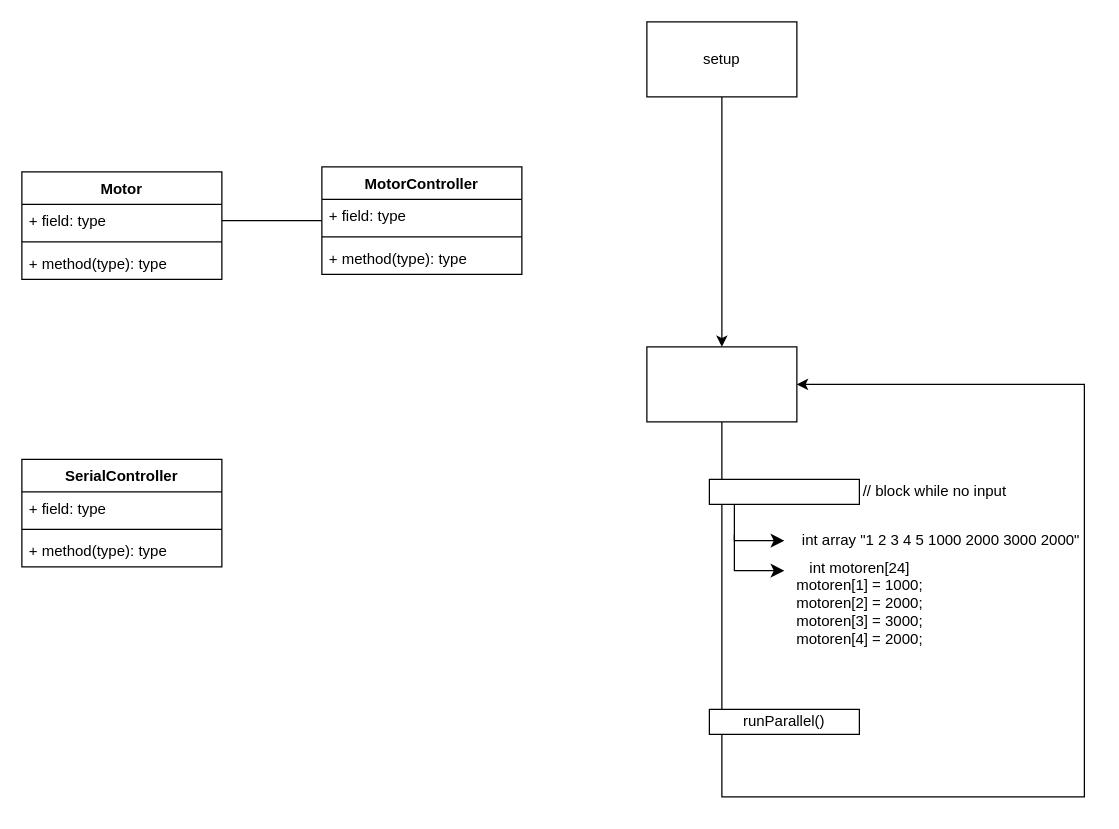
This 1119x829 diagram has some shape labels left out. The centre of each missing label's shape, as x and y in pixels:
"loop" belongs at (x=721, y=384).
"processInput()" belongs at (x=783, y=491).
